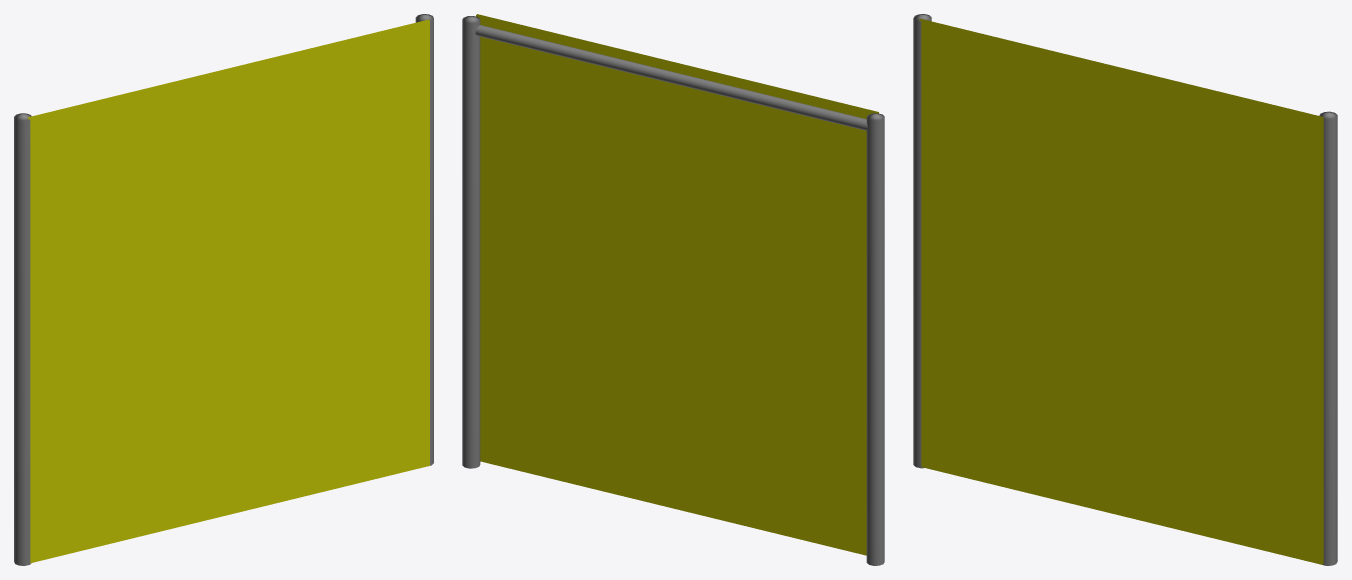
File: chainGateDoor1.fbx
The picture shows the model from 3 angles, left to right: view 1: azimuth 30°, elevation 25°; view 2: azimuth 150°, elevation 25°; view 3: azimuth 330°, elevation 25°; orthographic projection.
Visible parts, largest first — view 1: pPlane9; view 2: pPlane9; view 3: pPlane9.
Boxes of the visible parts, x1,y1,x2,y2 form: pPlane9: (14,14,433,565); pPlane9: (462,14,884,565); pPlane9: (913,14,1337,565).
Bounding box in the file's own units: 228 × 233 × 9.5.
